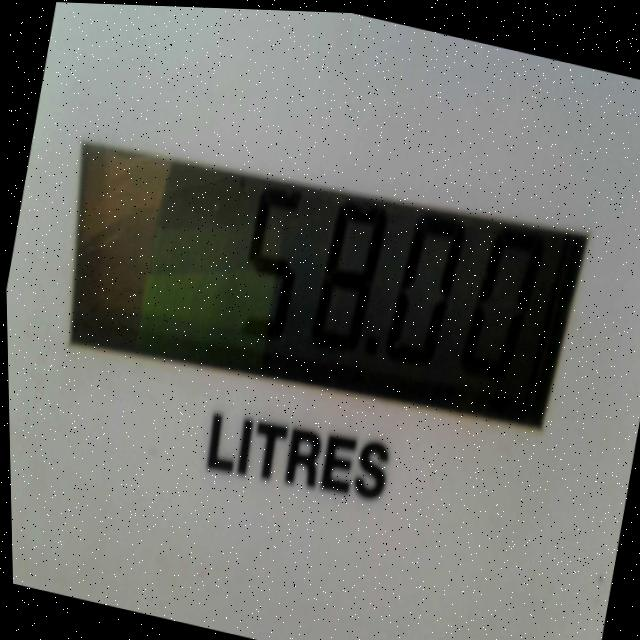.: (355, 319, 392, 386)
0: (367, 195, 485, 391), (441, 211, 556, 408)
5: (206, 160, 332, 364)
8: (290, 187, 406, 405)
